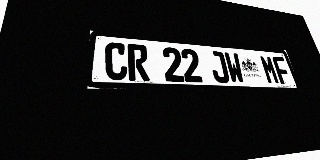2: (162, 47, 185, 82), (180, 48, 203, 82)
C: (105, 42, 128, 80)
F: (271, 56, 293, 85)
J: (208, 51, 230, 83)
M: (259, 55, 281, 84)
R: (127, 44, 150, 81)
W: (223, 52, 246, 83)
